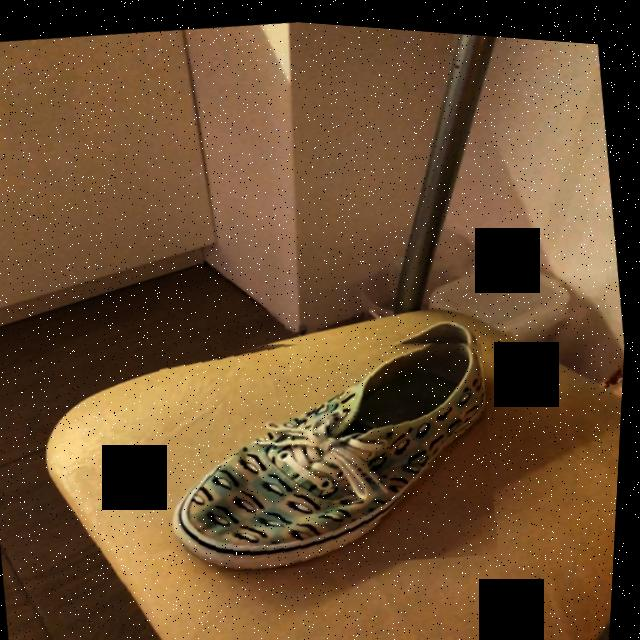shoe: (178, 333, 490, 568)
